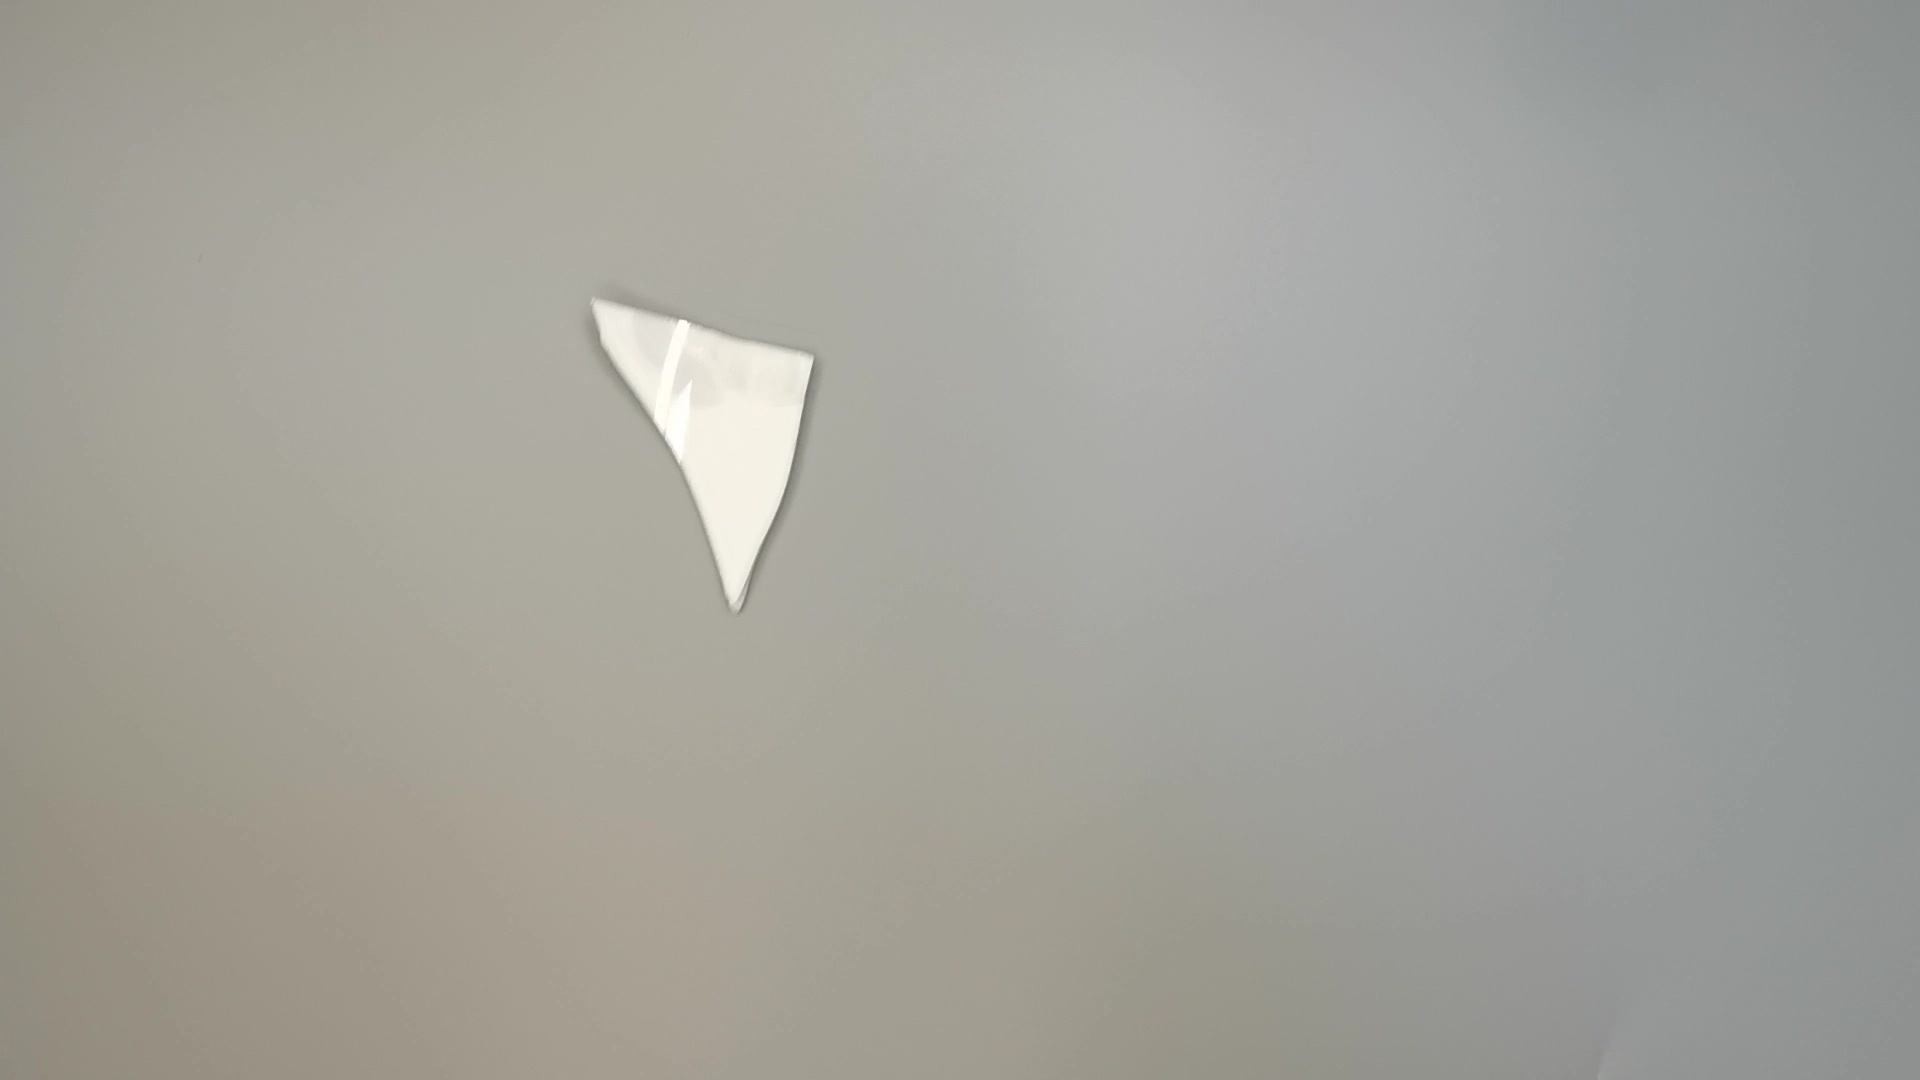ceramic: (574, 290, 825, 616)
